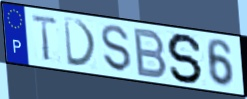6: (206, 37, 236, 90)
B: (133, 27, 169, 81)
D: (62, 16, 99, 69)
S: (165, 32, 205, 86), (100, 24, 134, 75)
T: (31, 13, 60, 63)
